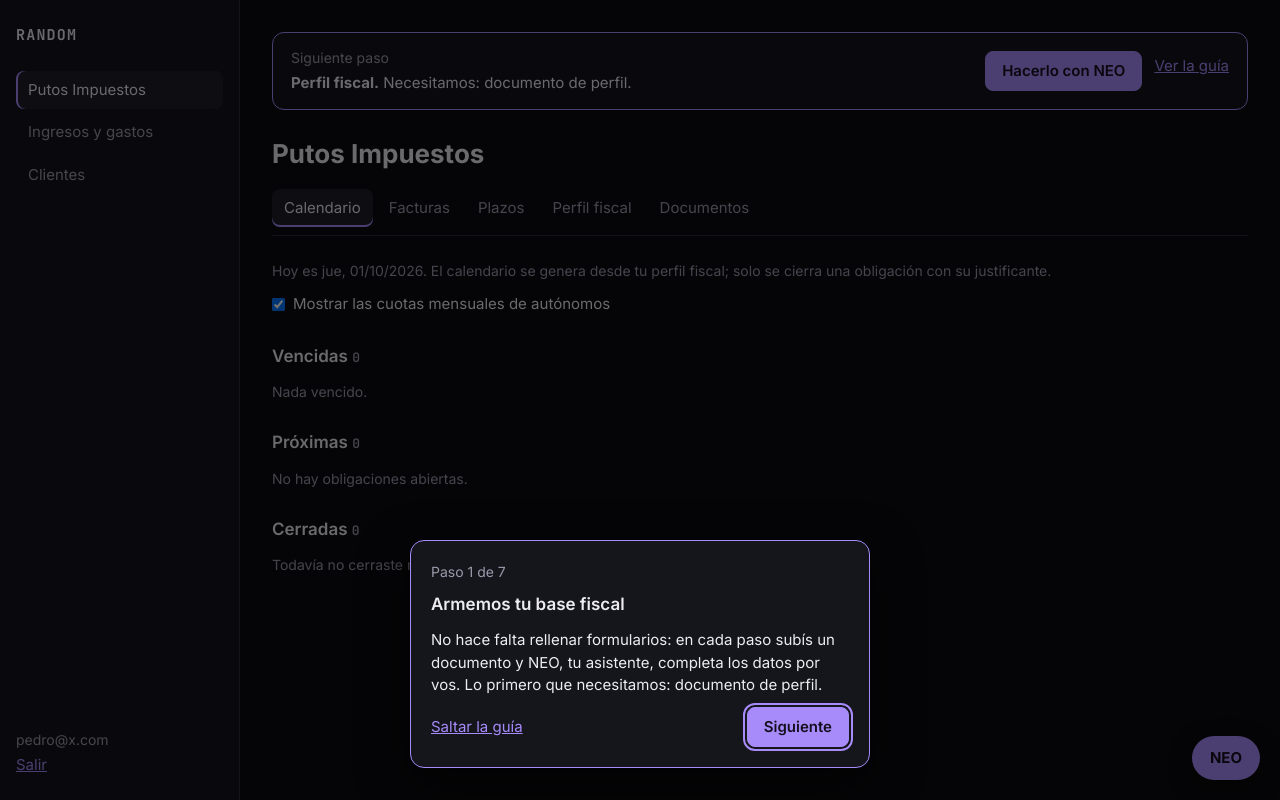
Scenario: guía de primer ingreso › con el almacenamiento bloqueado la guía funciona igual
The width and height of the screenshot is (1280, 800).
Click the button "Saltar la guía" at x=477, y=727, box [431,716,523,738]
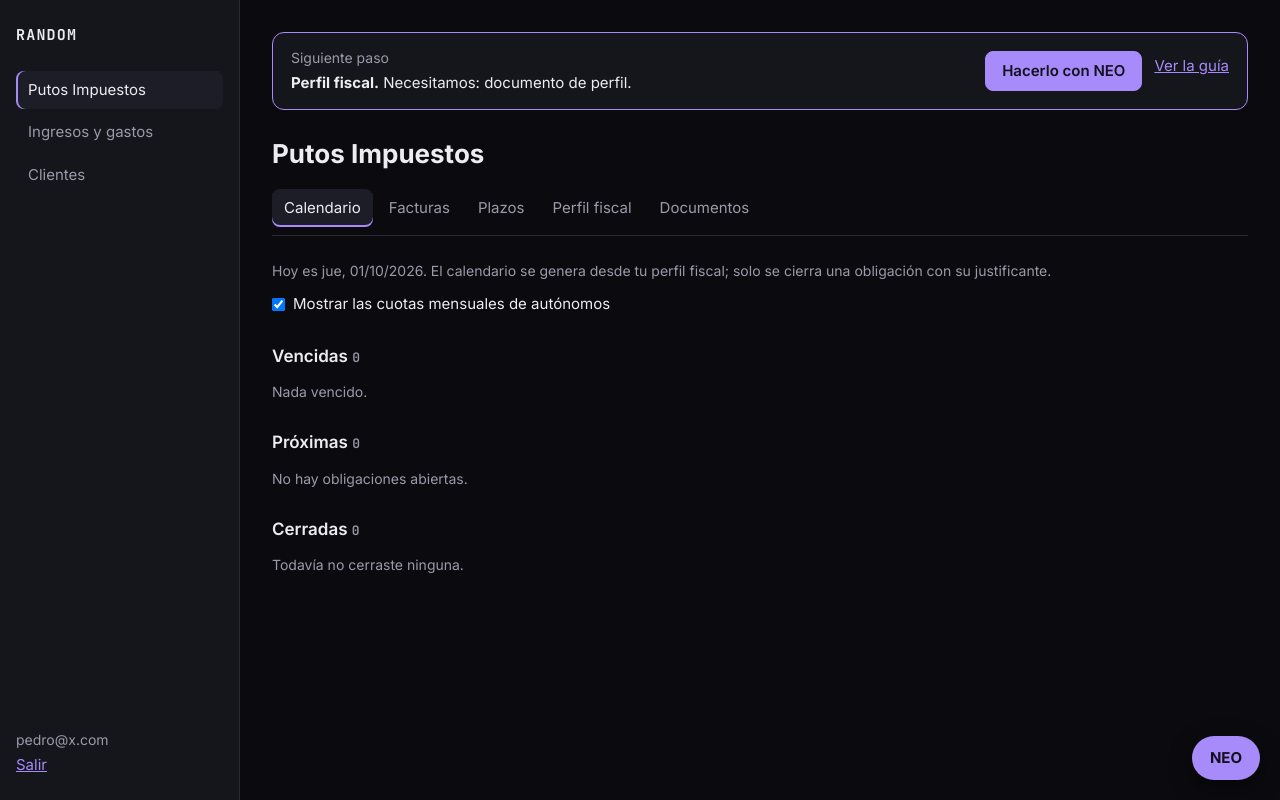
Now the dialog is gone
